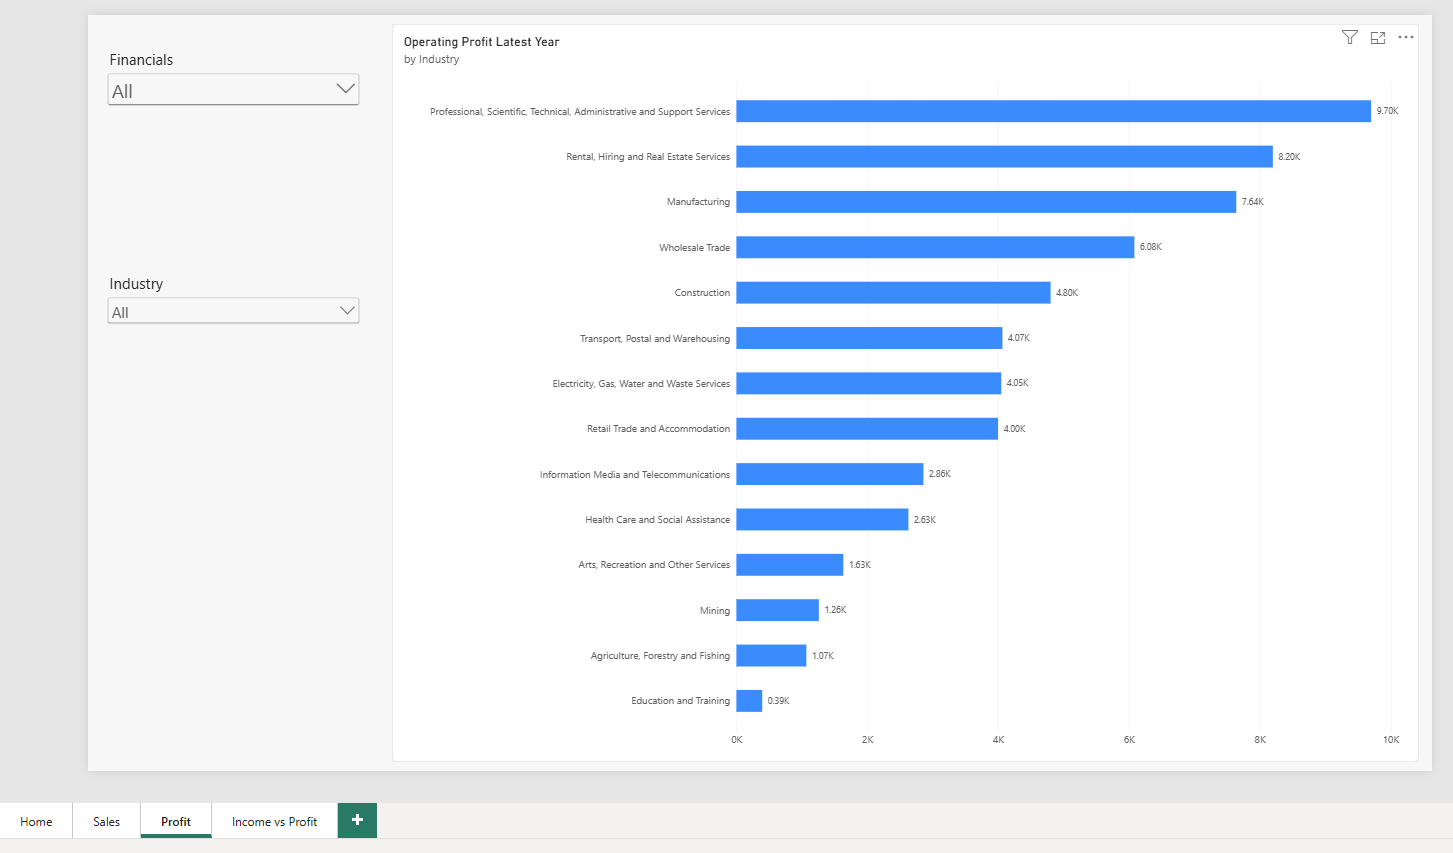

The page's visual inventory and layout, read from the dashboard file:
{"tool":"powerbi","page":{"name":"Profit","canvas":[1920,1080],"ordinal":2},"visuals":[{"type":"slicer","fields":{"Values":["business-financial-data-June-2026-quarter.Financial_Variable"]},"box":[23.4,48.5,369.6,214.1],"z":0},{"type":"clusteredBarChart","fields":{"Category":["business-financial-data-June-2026-quarter.Industry"],"Y":["business-financial-data-June-2026-quarter.Operating Profit Latest Year Value"]},"box":[434.8,13.4,1466.8,1053.7],"z":1000},{"type":"slicer","fields":{"Values":["business-financial-data-June-2026-quarter.Industry"]},"box":[23.4,367.9,369.6,453.2],"z":3000}]}

Visuals, with their boxes on the page's 1920x1080 design canvas (x1, y1, x2, y2). These are canvas units, not pixel positions in the 1453x853 screenshot, which may show the page scaled, cropped or inside an application window:
slicer - business-financial-data-June-2026-quarter.Financial_Variable: (x1=23, y1=48, x2=393, y2=263)
clusteredBarChart - business-financial-data-June-2026-quarter.Industry x business-financial-data-June-2026-quarter.Operating Profit Latest Year Value: (x1=435, y1=13, x2=1902, y2=1067)
slicer - business-financial-data-June-2026-quarter.Industry: (x1=23, y1=368, x2=393, y2=821)
